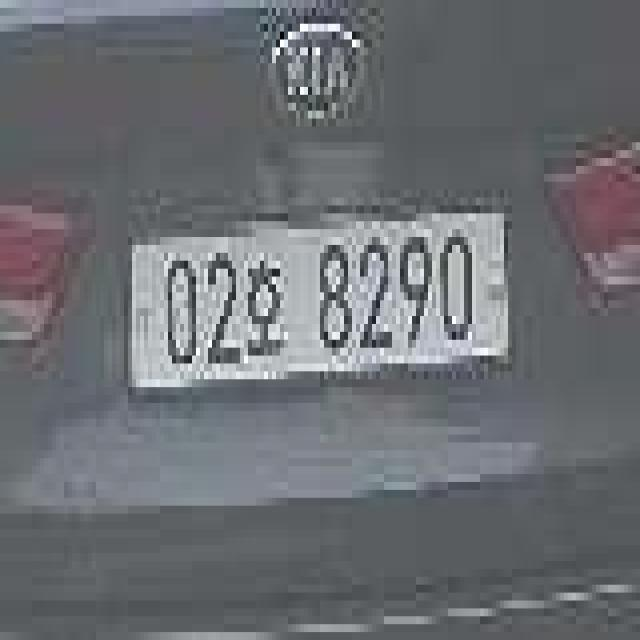illegal_plate: (124, 205, 512, 400)
